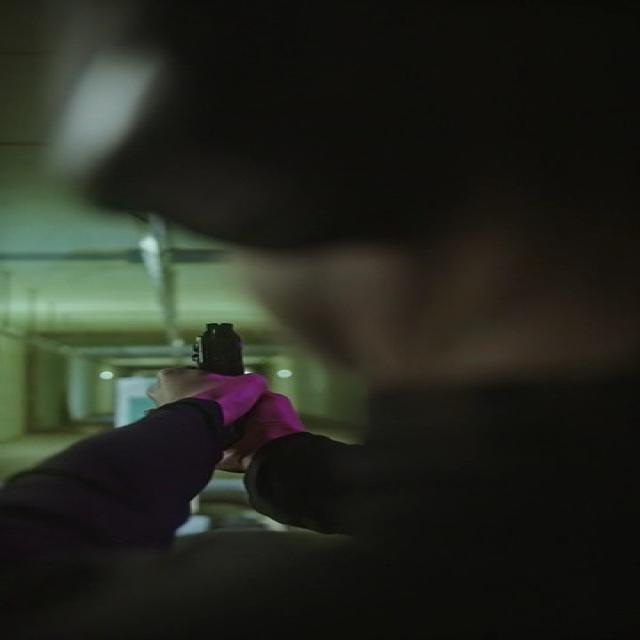Gun_Holder: (137, 307, 325, 468)
